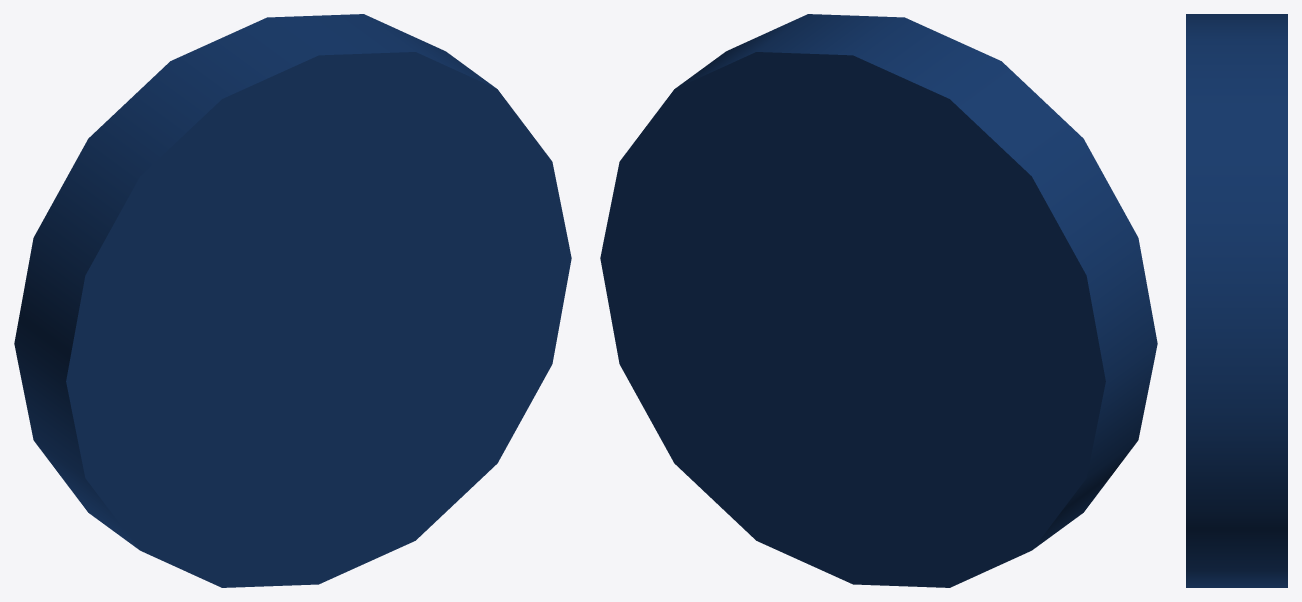
File: icub_r_shoulder_1.dae
The picture shows the model from 3 angles, left to right: view 1: azimuth 30°, elevation 25°; view 2: azimuth 150°, elevation 25°; view 3: azimuth 270°, elevation 25°; orthographic projection.
Visible parts, largest first — view 1: r_shoulder_1_mesh; view 2: r_shoulder_1_mesh; view 3: r_shoulder_1_mesh.
Part boxes in pixels (x1,y1,x2,y2): r_shoulder_1_mesh: (14, 14, 571, 587); r_shoulder_1_mesh: (600, 14, 1157, 587); r_shoulder_1_mesh: (1186, 14, 1287, 587).
Bounding box in the file's own units: 0.062 × 0.062 × 0.011.
